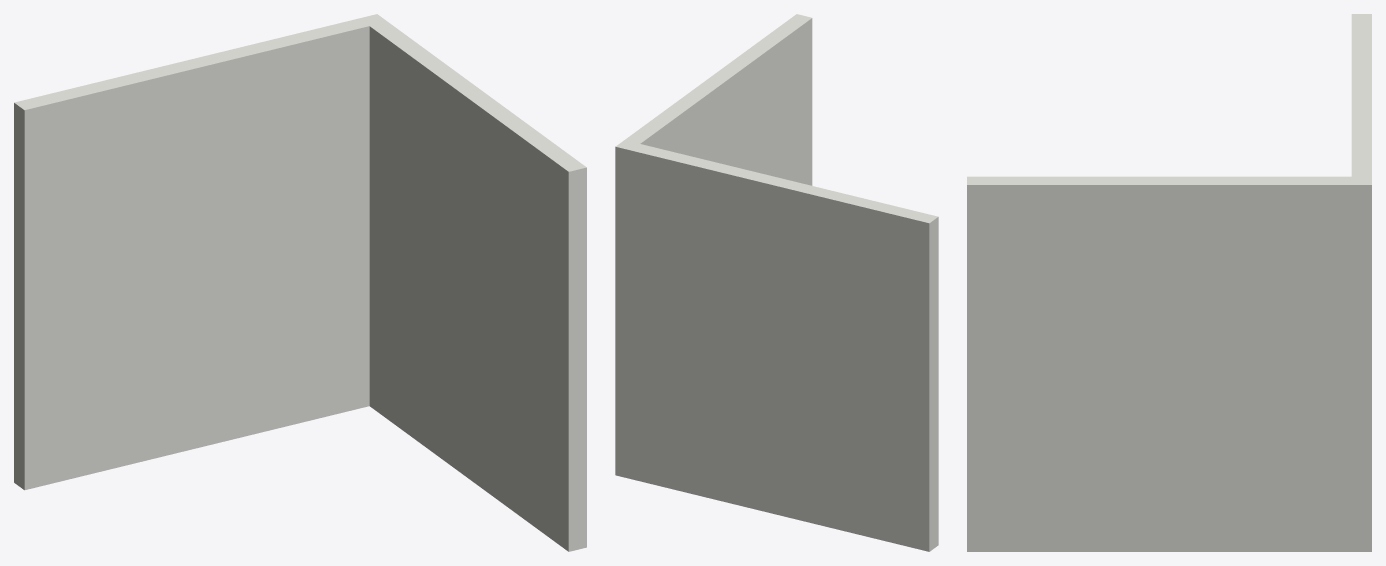
Rendered from Wal_1_1.fbx.
3 renders of one model, left to right at view 1: azimuth 30°, elevation 25°; view 2: azimuth 150°, elevation 25°; view 3: azimuth 270°, elevation 25°, orthographic. The views are drawn at different scales.
Parts seen in each view (by area): view 1: polySurface4; view 2: polySurface4; view 3: polySurface4.
Boxes of the visible parts, bbox=[...] form: polySurface4: bbox=[14, 14, 586, 551]; polySurface4: bbox=[615, 14, 938, 551]; polySurface4: bbox=[967, 14, 1371, 551].
Bounding box in the file's own units: 4 × 4 × 4.
1 material, 1 textured.
